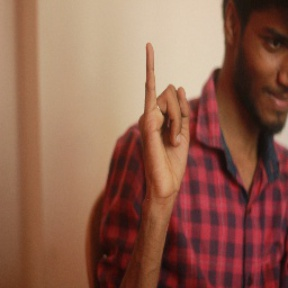I: (135, 41, 202, 194)
